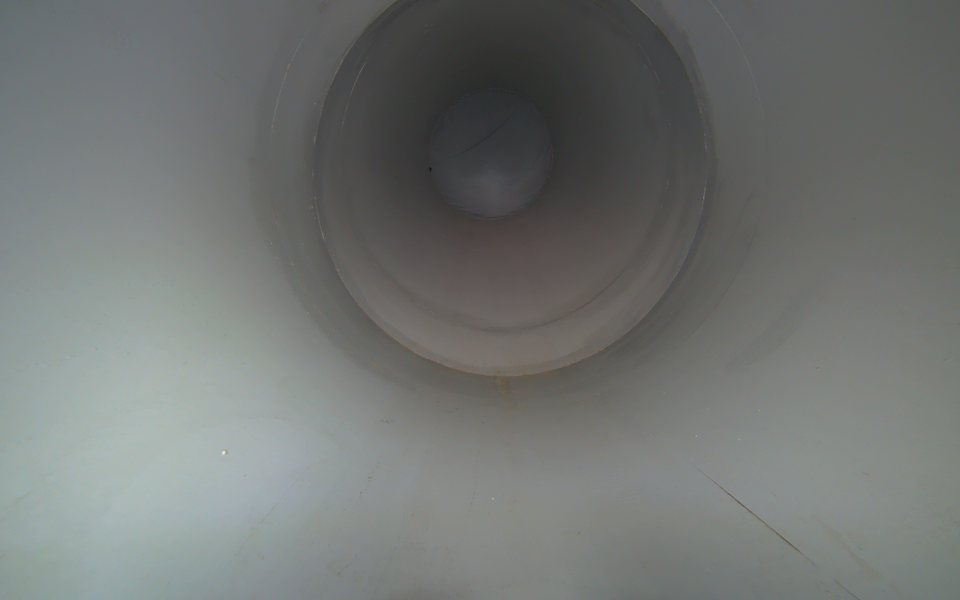circle1: (312, 0, 709, 375)
circle2: (427, 85, 555, 218)
